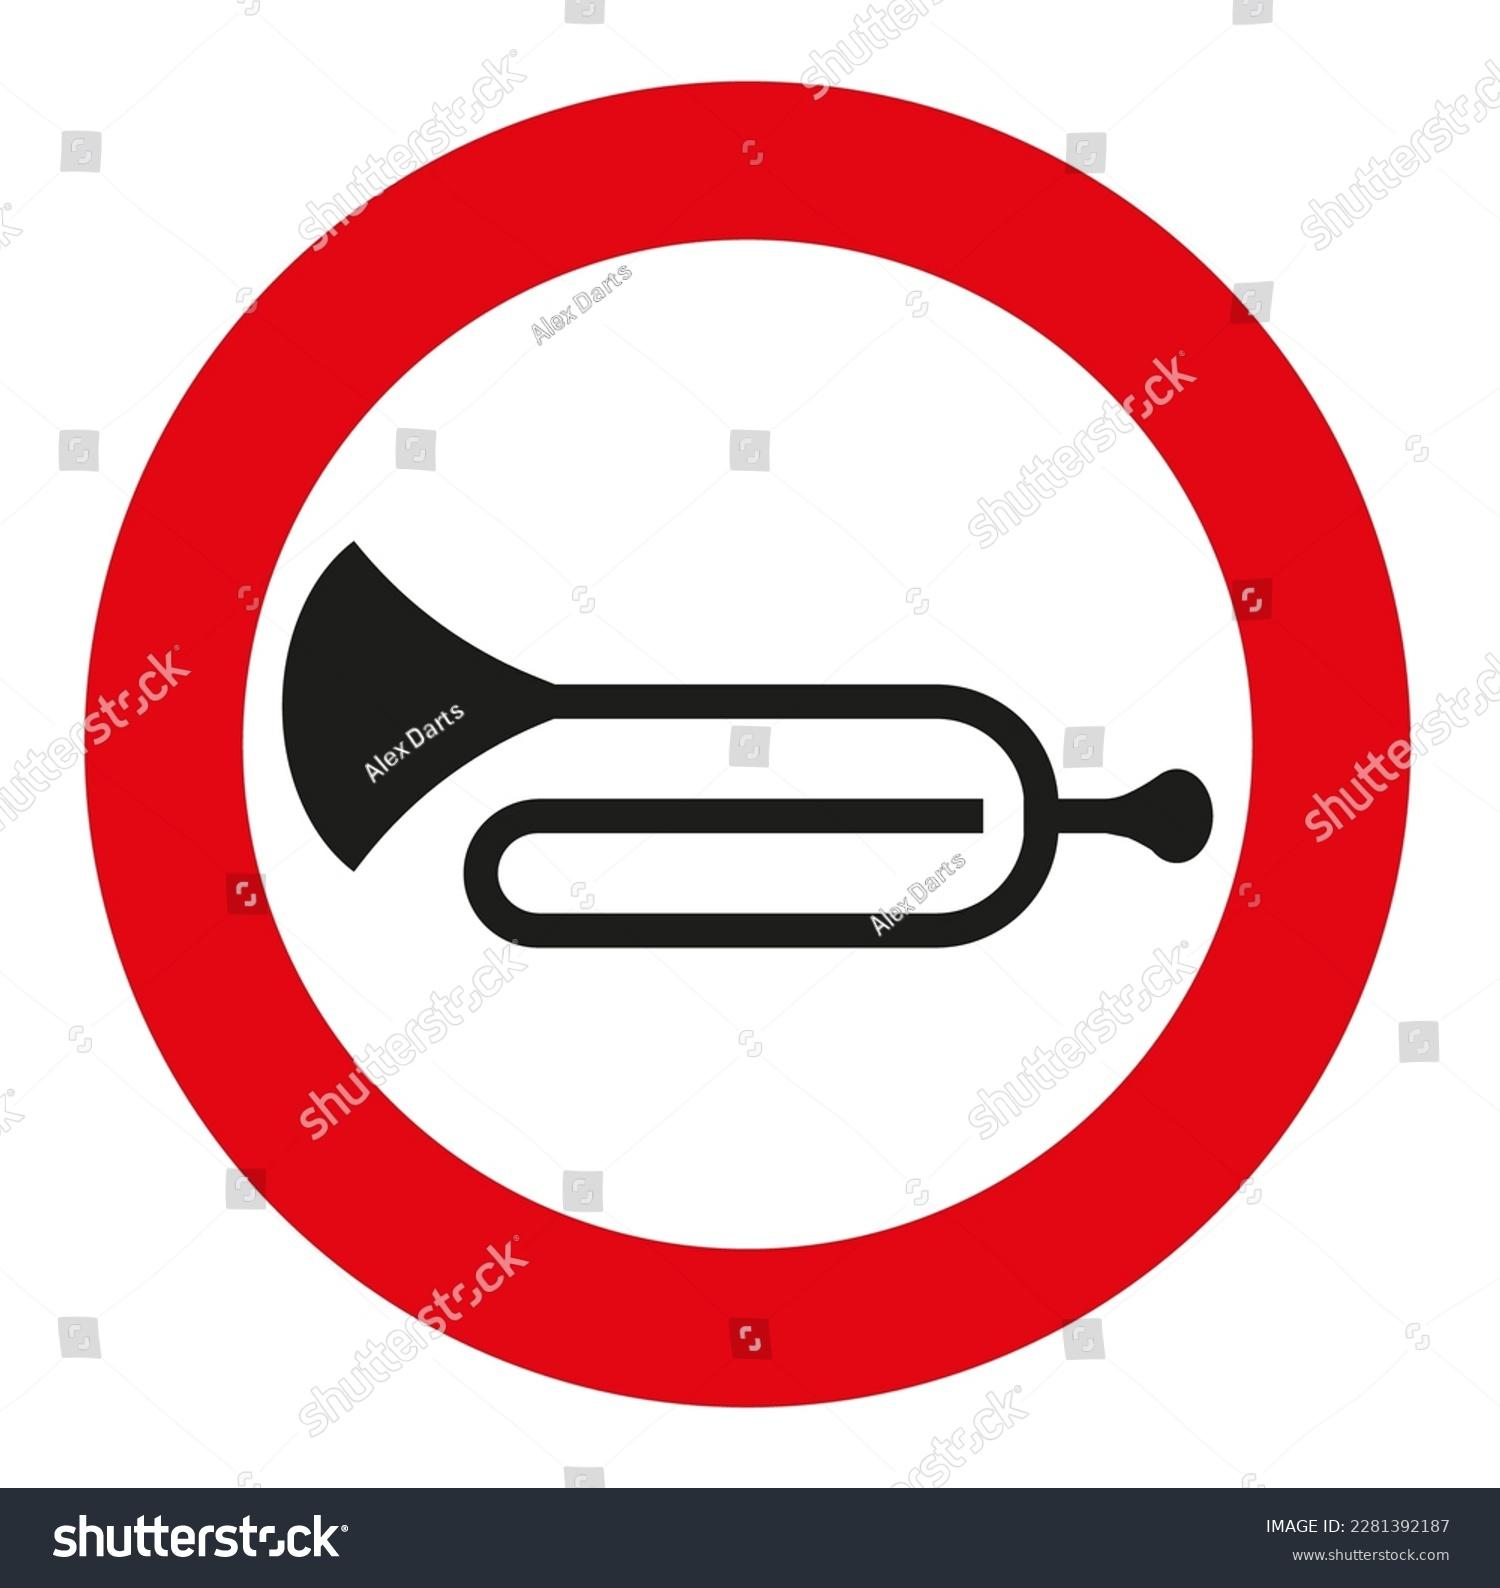Horn Prohibited: (131, 41, 1434, 1412)
